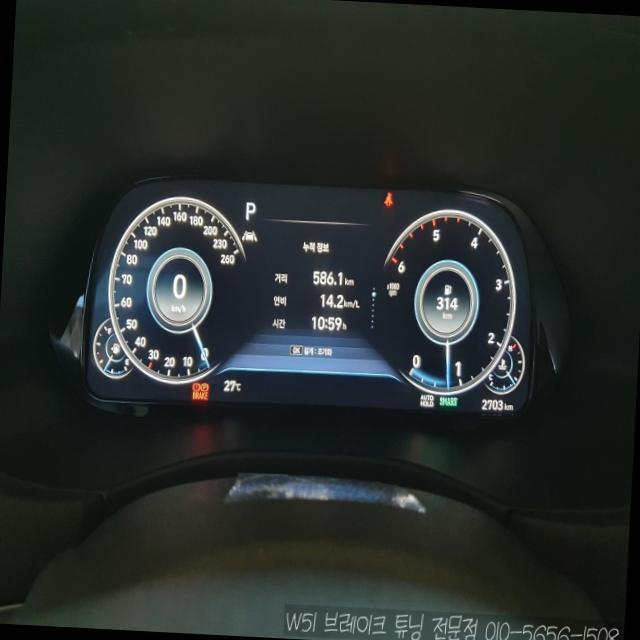LaneCenteringOff: (240, 228, 256, 241)
